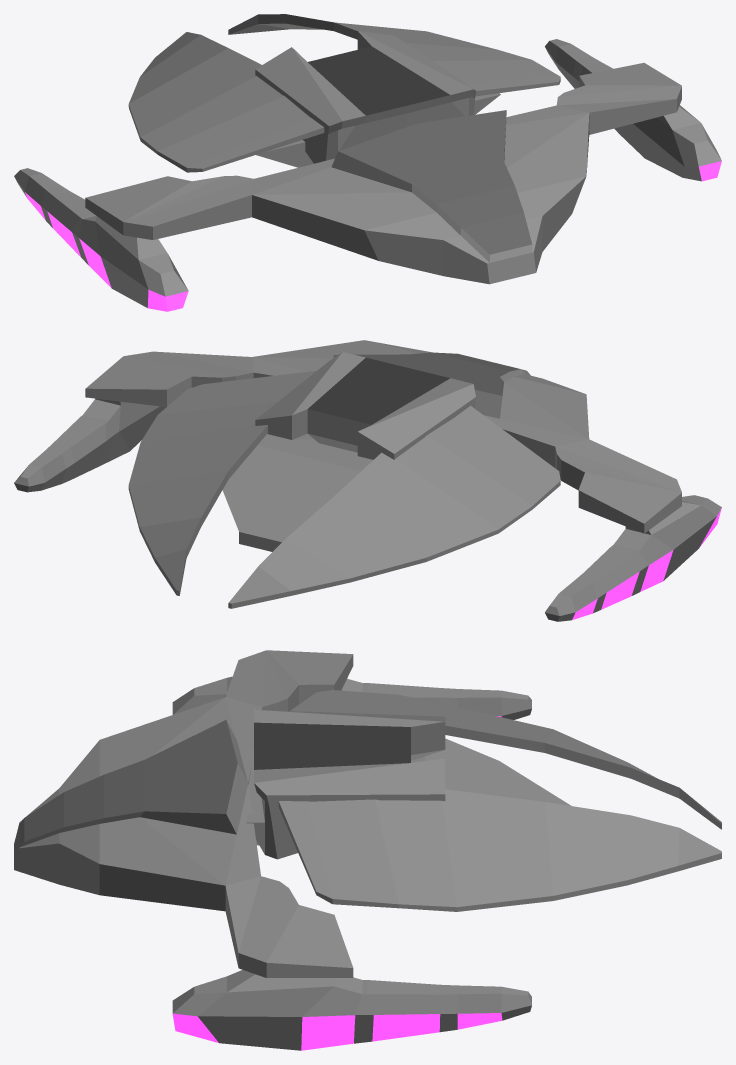
The model's file is Dom_Scout_iii.fbx.
The picture shows the model from 3 angles, top to bottom: view 1: azimuth 30°, elevation 25°; view 2: azimuth 150°, elevation 25°; view 3: azimuth 270°, elevation 25°; orthographic projection. The views are drawn at different scales.
Visible parts, largest first — view 1: Cube.004; view 2: Cube.004; view 3: Cube.004.
Boxes of the visible parts, x1,y1,x2,y2 form: Cube.004: (14, 14, 721, 311); Cube.004: (14, 340, 721, 621); Cube.004: (14, 650, 721, 1050).
Size of the model in its own units: 234 by 53.36 by 219.
